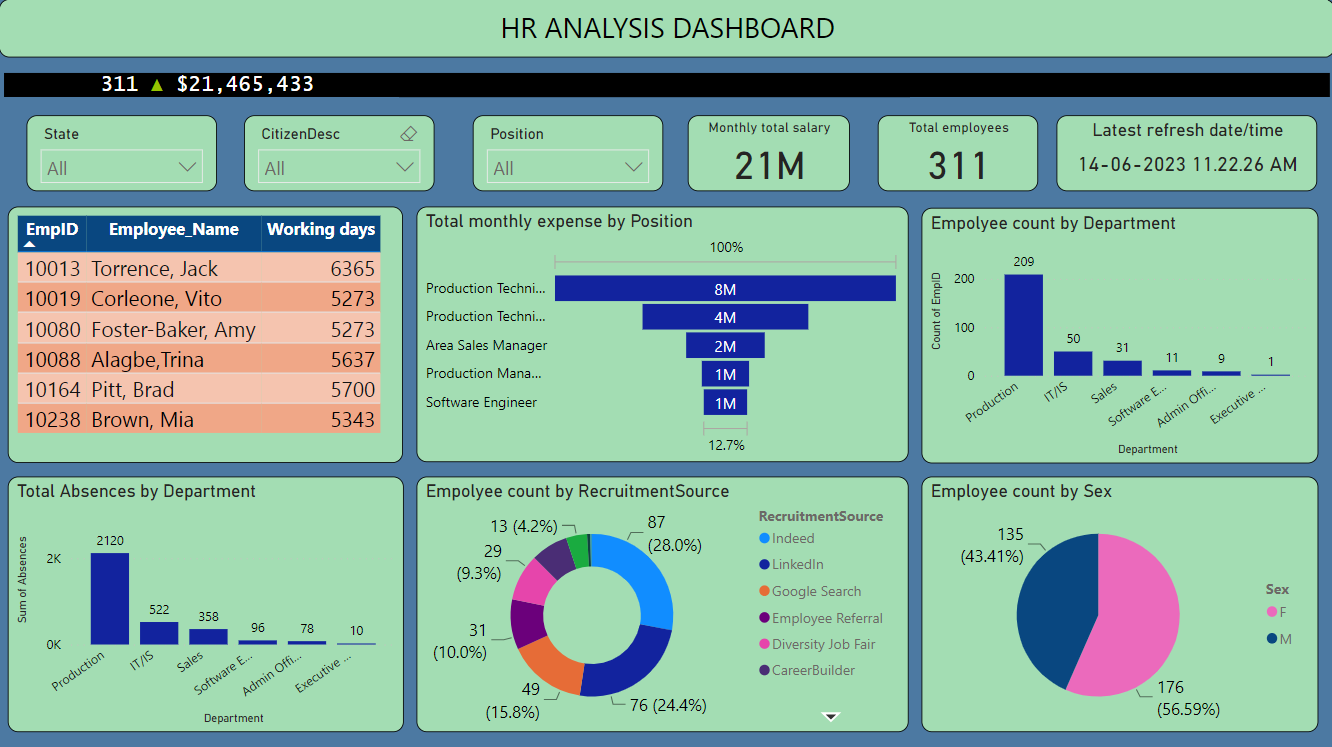

The dashboard page shown, as its layout file describes it:
{"tool":"powerbi","page":{"name":"Hr analysis","canvas":[1280,720],"ordinal":0},"visuals":[{"type":"card","title":"Monthly total salary ","fields":{"Values":["HRDataset_v14.Total salary monthly expense"]},"box":[658.7,111.1,155.1,72.7],"z":0,"group":"g1"},{"type":"clusteredColumnChart","title":"Empolyee count by Department","fields":{"Category":["HRDataset_v14.Department"],"Y":["HRDataset_v14.EmpID"]},"box":[882.8,200.2,379.9,244.8],"z":0},{"type":"card","title":"Total employees","fields":{"Values":["HRDataset_v14.Total employees"]},"box":[841.2,111.1,153.7,72.7],"z":1000,"group":"g1"},{"type":"columnChart","title":"Total Absences by Department","fields":{"Y":["HRDataset_v14.Absences"],"Category":["HRDataset_v14.Department"]},"box":[8.4,457.1,379,245],"z":1000},{"type":"slicer","fields":{"Values":["HRDataset_v14.CitizenDesc"]},"box":[452.9,111.1,182.5,72.7],"z":2000,"group":"g1"},{"type":"donutChart","title":"Empolyee count by RecruitmentSource","fields":{"Category":["HRDataset_v14.RecruitmentSource"],"Y":["HRDataset_v14.EmpID"]},"box":[399.2,457.1,471.6,245],"z":2000},{"type":"slicer","fields":{"Values":["HRDataset_v14.State"]},"box":[26.1,111.1,182.5,72.7],"z":3000,"group":"g1"},{"type":"funnel","title":"Total monthly expense by Position","fields":{"Category":["HRDataset_v14.Position"],"Y":["HRDataset_v14.Total salary monthly expense"]},"box":[399.3,199,472,245.6],"z":3000},{"type":"textbox","box":[0,0,1280.3,56.3],"z":4000},{"type":"slicer","fields":{"Values":["HRDataset_v14.CitizenDesc"]},"box":[234.7,111.1,182.5,72.7],"z":4000,"group":"g1"},{"type":"pieChart","title":"Employee count by Sex","fields":{"Category":["HRDataset_v14.Sex"],"Y":["HRDataset_v14.EmpID"]},"box":[882.8,457.1,379.9,245],"z":5000},{"type":"card","title":"Latest refresh date/time","fields":{"Values":["Date/time.Lastest refresh date/time"]},"box":[1012.7,111.1,249.7,72.7],"z":6000},{"type":"ScrollingTextVisual1448795304508","fields":{"Measure Deviation":["HRDataset_v14.Salary"],"Measure Absolute":["HRDataset_v14.Total employees"]},"box":[0,65.9,1280.3,32.9],"z":7000},{"type":"group","id":"g1","title":"Group 1","box":[26.1,111.1,968.8,72.7],"z":8000},{"type":"gauge","fields":{"Y":["HRDataset_v14.Total Attrition"],"TargetValue":["HRDataset_v14.Target value"]},"box":[8.2,199,378.7,245.6],"z":9000}]}

Visuals, with their boxes in screenshot pixels (x1, y1, x2, y2), scaled from the page's 1280x720 canvas onto the 1332x747 screenshot:
"Monthly total salary " card: 685,115,847,191
"Empolyee count by Department" clusteredColumnChart: 919,208,1314,462
"Total employees" card: 875,115,1035,191
"Total Absences by Department" columnChart: 9,474,403,728
slicer - HRDataset_v14.CitizenDesc: 471,115,661,191
"Empolyee count by RecruitmentSource" donutChart: 415,474,906,728
slicer - HRDataset_v14.State: 27,115,217,191
"Total monthly expense by Position" funnel: 416,206,907,461
textbox: 0,0,1331,58
slicer - HRDataset_v14.CitizenDesc: 244,115,434,191
"Employee count by Sex" pieChart: 919,474,1314,728
"Latest refresh date/time" card: 1054,115,1314,191
ScrollingTextVisual1448795304508 - HRDataset_v14.Salary x HRDataset_v14.Total employees: 0,68,1331,103
"Group 1" group: 27,115,1035,191
gauge - HRDataset_v14.Total Attrition x HRDataset_v14.Target value: 9,206,403,461
